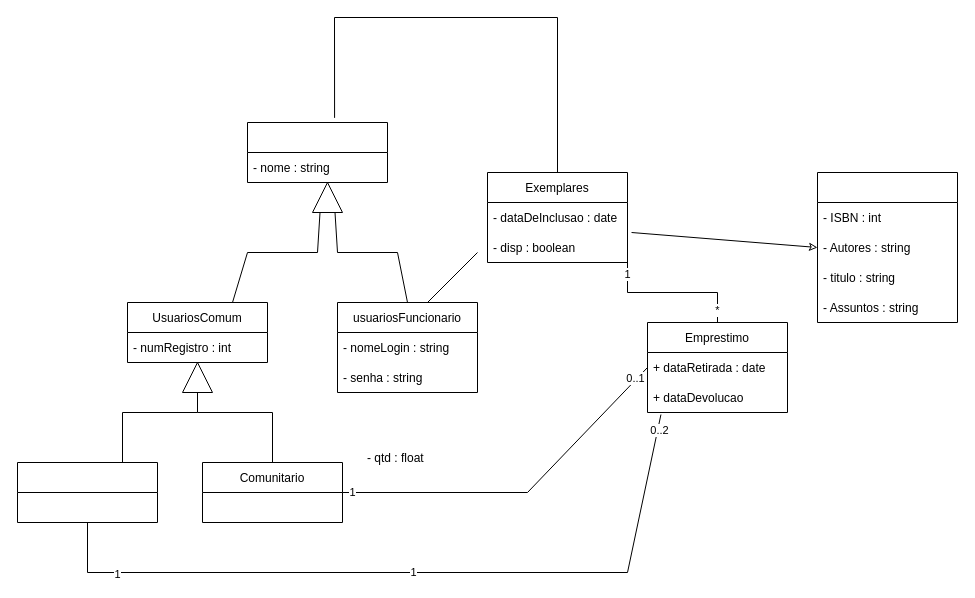
Image size: 975x598. Some labels were removed from this diagram. The box of each missing label's shape, as (x1, y1, x2, y2) in pixels:
Aluno: (16, 462, 158, 522)
Obras: (816, 172, 958, 322)
Usuarios: (246, 122, 388, 182)
